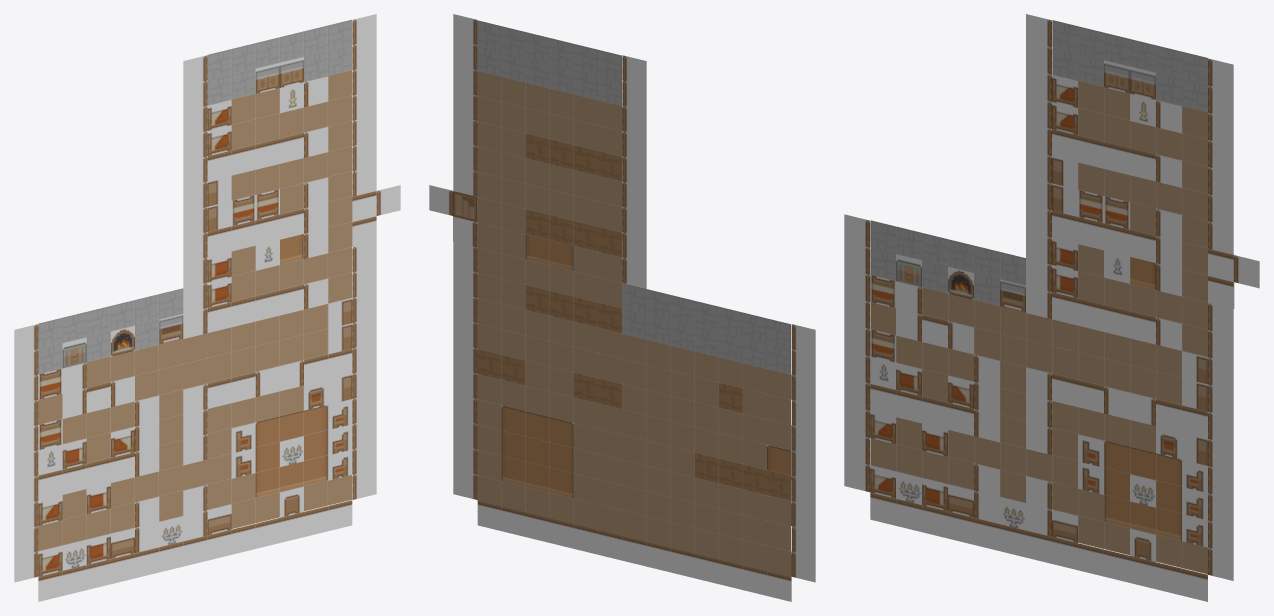
File: tavern_1b.obj
The picture shows the model from 3 angles, left to right: view 1: azimuth 30°, elevation 25°; view 2: azimuth 150°, elevation 25°; view 3: azimuth 330°, elevation 25°; orthographic projection. The views are drawn at different scales.
Visible parts, largest first — view 1: tavern_1b.0; view 2: tavern_1b.0; view 3: tavern_1b.0.
Part boxes in pixels (x1,y1,x2,y2): tavern_1b.0: [14, 14, 400, 601]; tavern_1b.0: [429, 14, 815, 601]; tavern_1b.0: [844, 14, 1259, 601].
Size of the model in its own units: 16 by 20 by 0.03.
